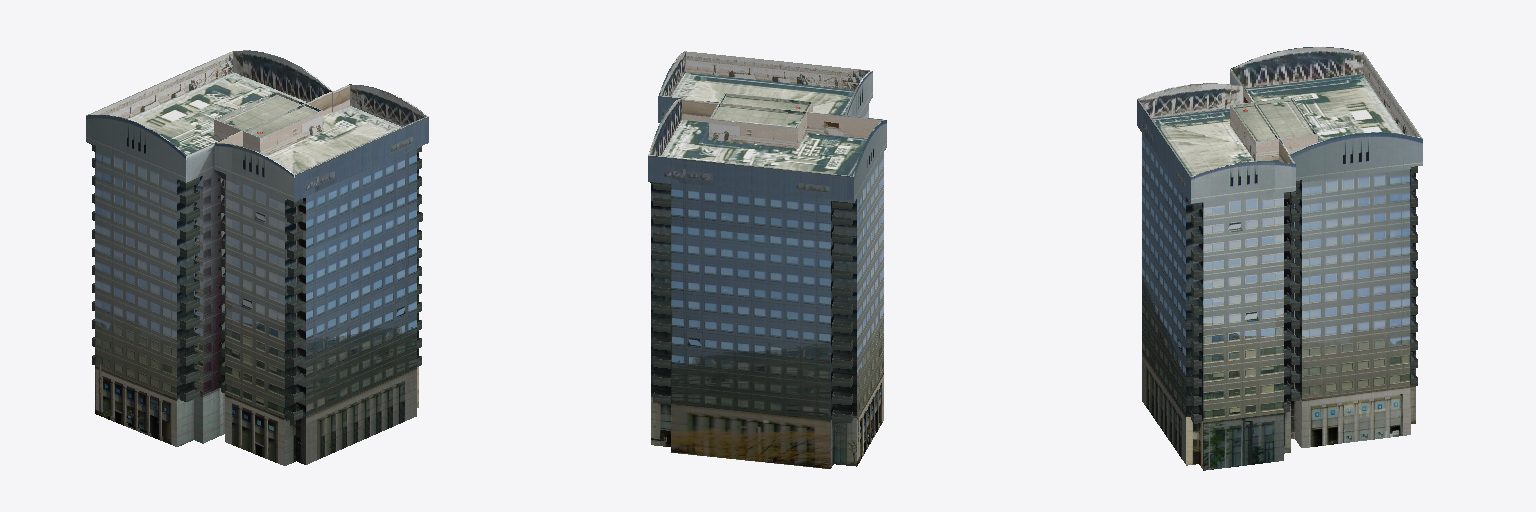
3 renders of one model, left to right at view 1: azimuth 30°, elevation 25°; view 2: azimuth 150°, elevation 25°; view 3: azimuth 270°, elevation 25°, orthographic.
Visible parts, largest first — view 1: Mesh1 main General Model; view 2: Mesh1 main General Model; view 3: Mesh1 main General Model.
Boxes of the visible parts, <box> form: Mesh1 main General Model: <box>86,50,428,465</box>; Mesh1 main General Model: <box>648,51,886,468</box>; Mesh1 main General Model: <box>1137,47,1422,470</box>.
Bounding box in the file's own units: 59.05 × 67.84 × 57.12.
68 materials, 67 textured.